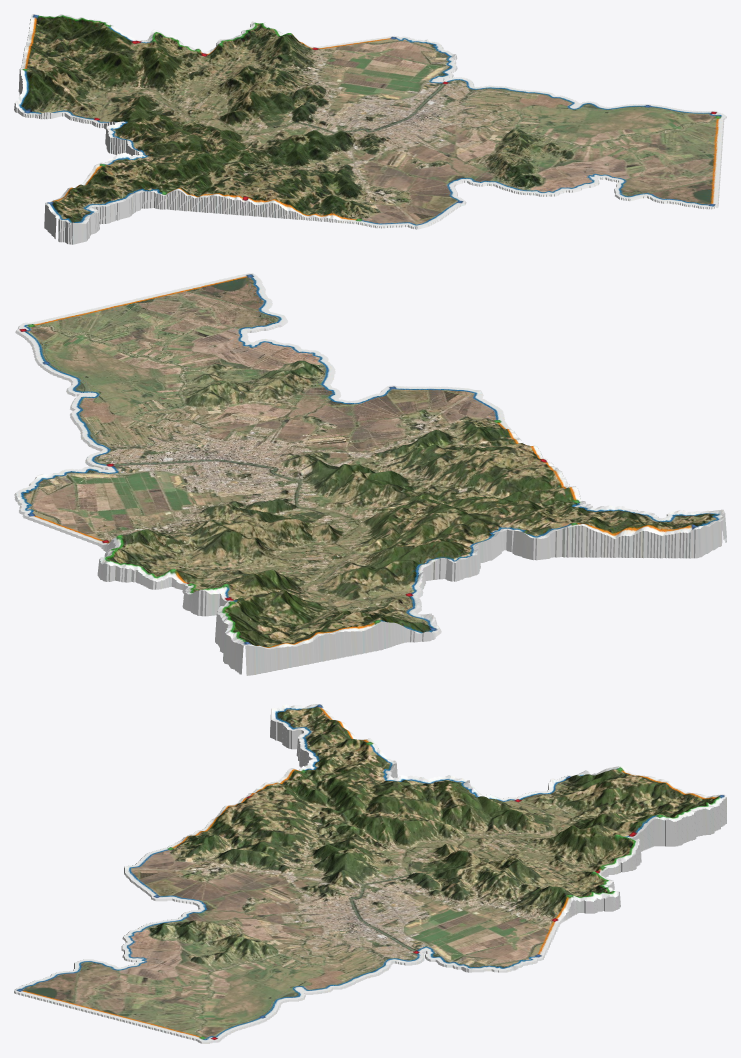
3 views of the same model, one above another, from view 1: azimuth 30°, elevation 25°; view 2: azimuth 150°, elevation 25°; view 3: azimuth 270°, elevation 25° (orthographic). The views are drawn at different scales.
Size of the model in its own units: 0.9997 by 0.0411 by 0.9498.
Materials: 1 (1 with a texture image).
